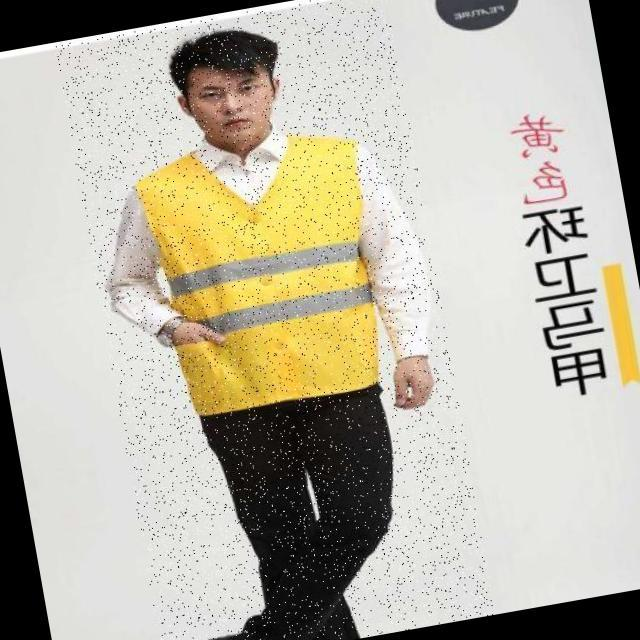Person: (88, 24, 456, 640)
Safety Vest: (130, 114, 398, 423)
bare-arms: (169, 305, 220, 378), (393, 355, 439, 415)
no-helmet: (173, 28, 279, 80)
